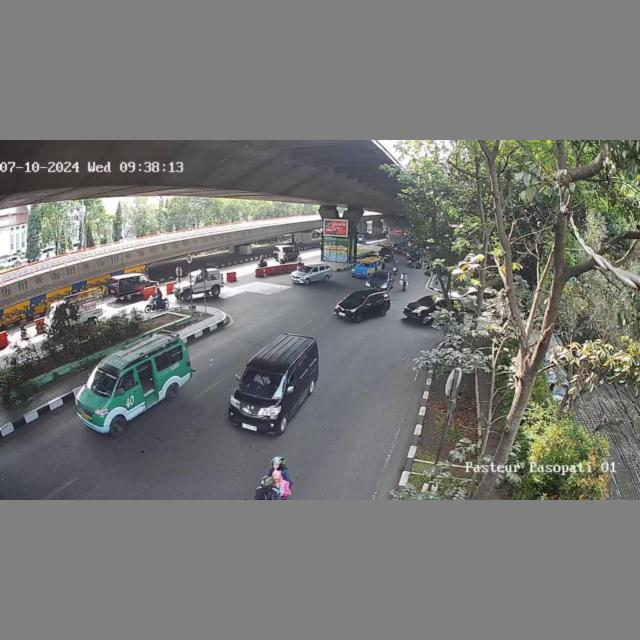windshield: (238, 366, 288, 399), (86, 368, 121, 394), (342, 293, 366, 305)
